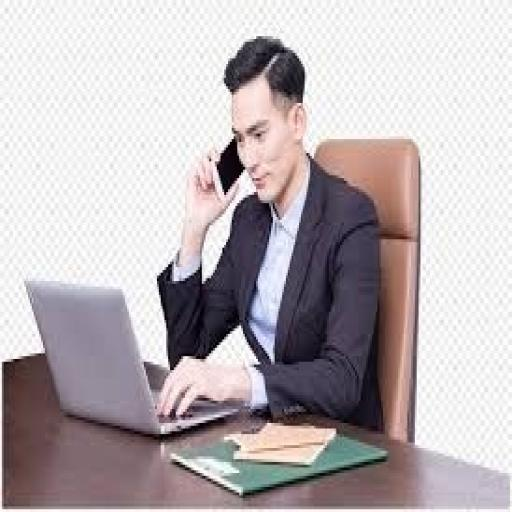calling: (153, 34, 383, 428)
